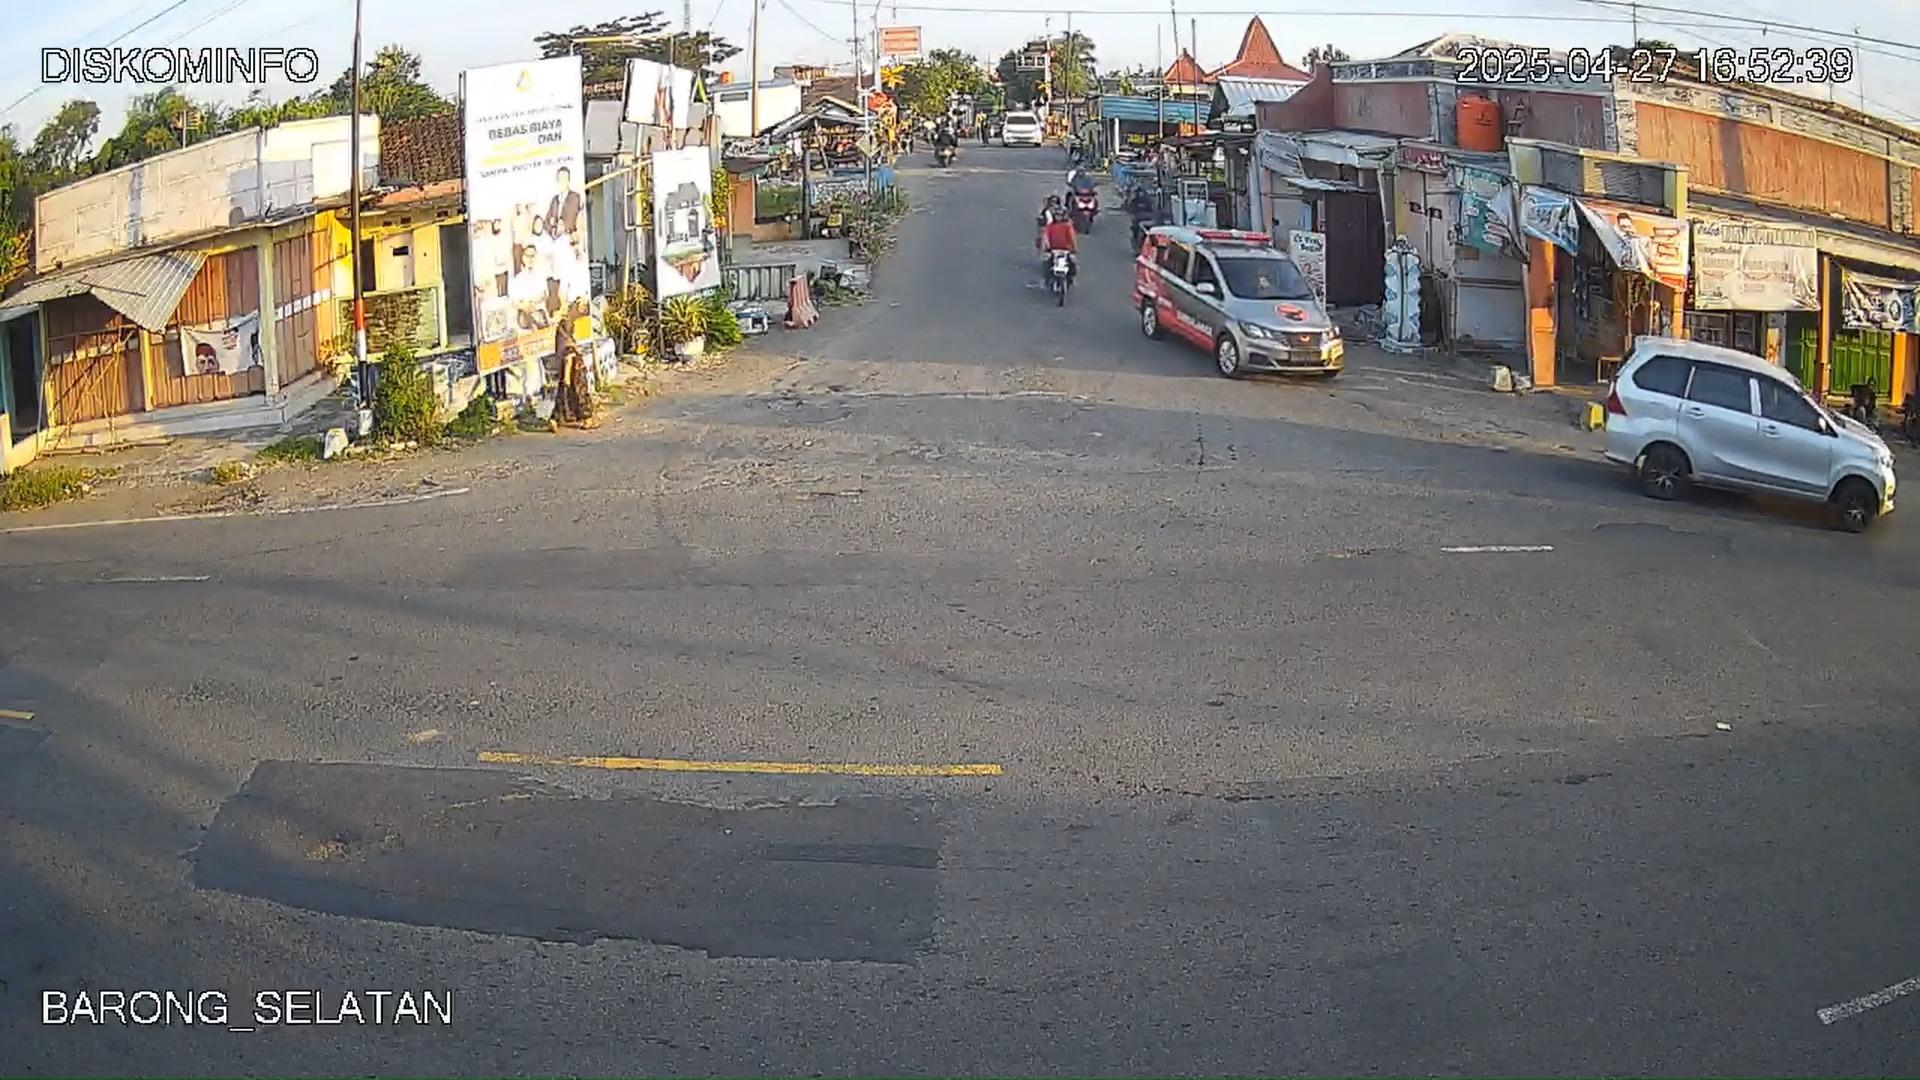mobil: (1597, 331, 1896, 529), (1129, 223, 1323, 377)
